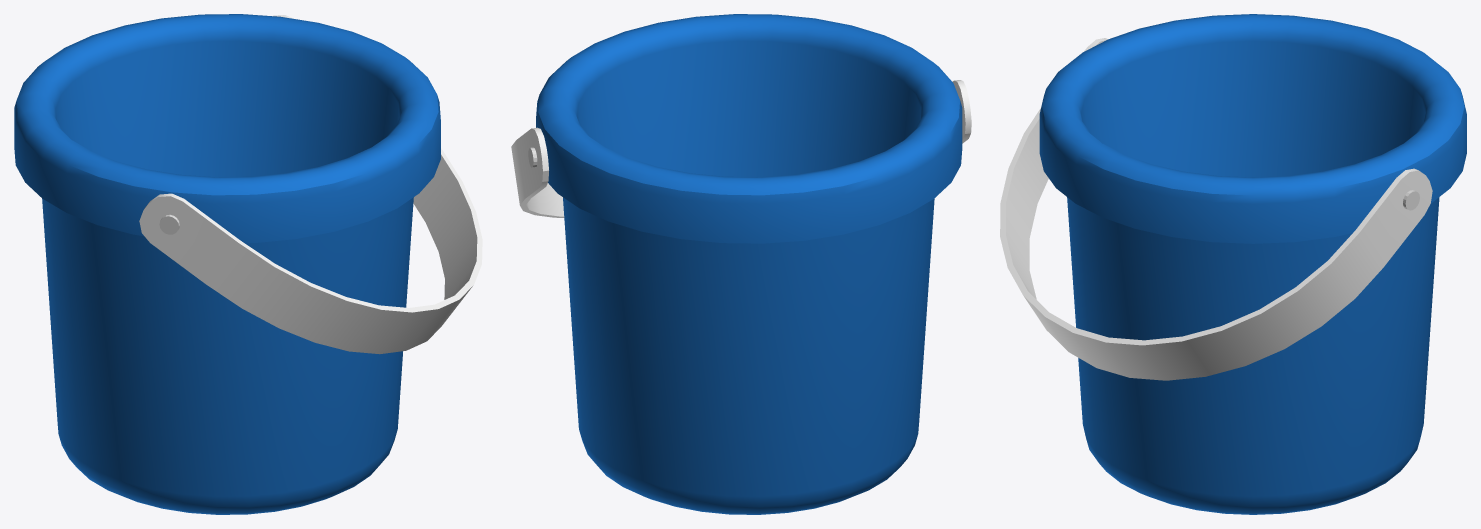
File: bucket.gltf
The picture shows the model from 3 angles, left to right: view 1: azimuth 30°, elevation 25°; view 2: azimuth 150°, elevation 25°; view 3: azimuth 270°, elevation 25°; orthographic projection.
Visible parts, largest first — view 1: Circle.2608; view 2: Circle.2608; view 3: Circle.2608.
Part boxes in pixels (x1,y1,x2,y2): Circle.2608: [14, 14, 482, 514]; Circle.2608: [511, 14, 971, 514]; Circle.2608: [1000, 14, 1466, 514].
Bounding box in the file's own units: 2.06 × 1.73 × 2.06.
1 material, 1 textured.
